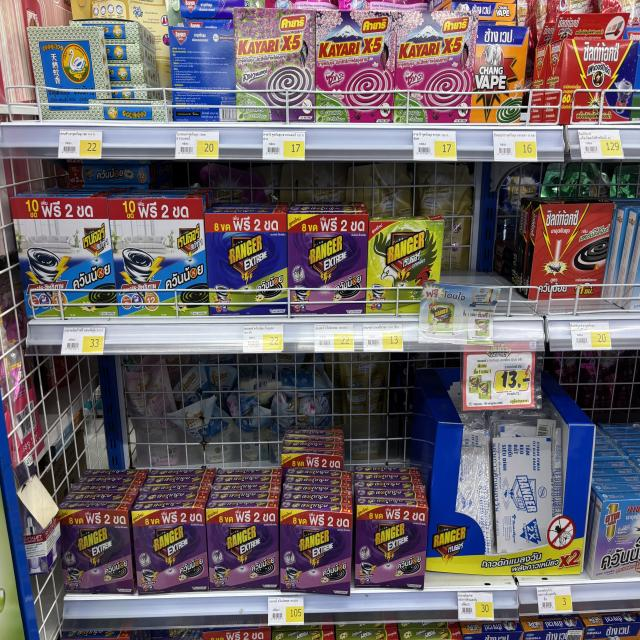empty_shelf: (438, 208, 535, 312)
